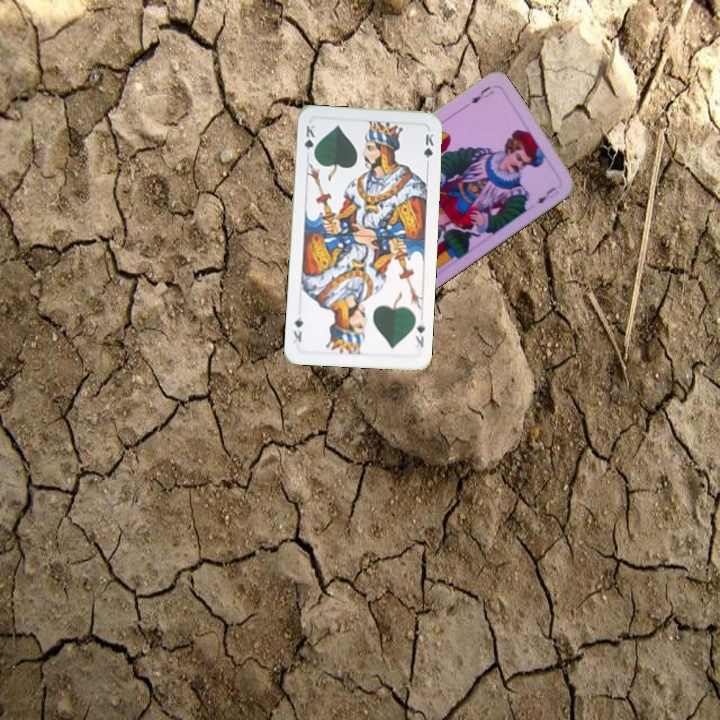EU: (460, 82, 496, 111)
GK: (300, 121, 317, 160), (410, 318, 427, 350)
